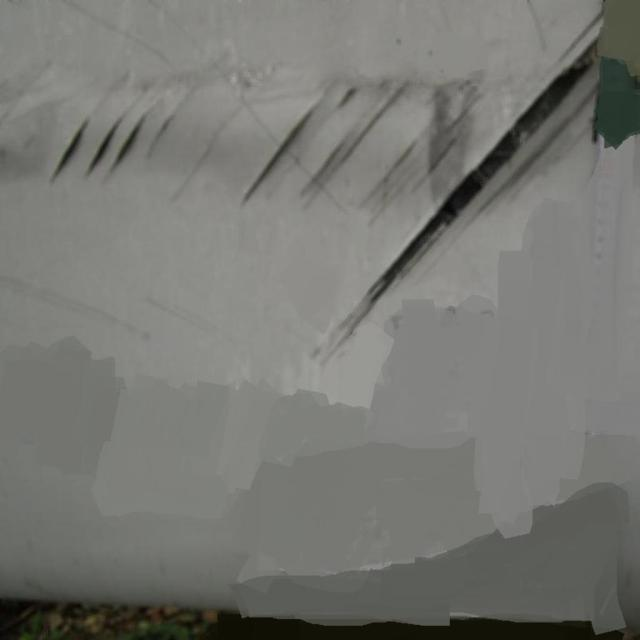crack: (319, 16, 602, 338), (46, 108, 182, 176)
